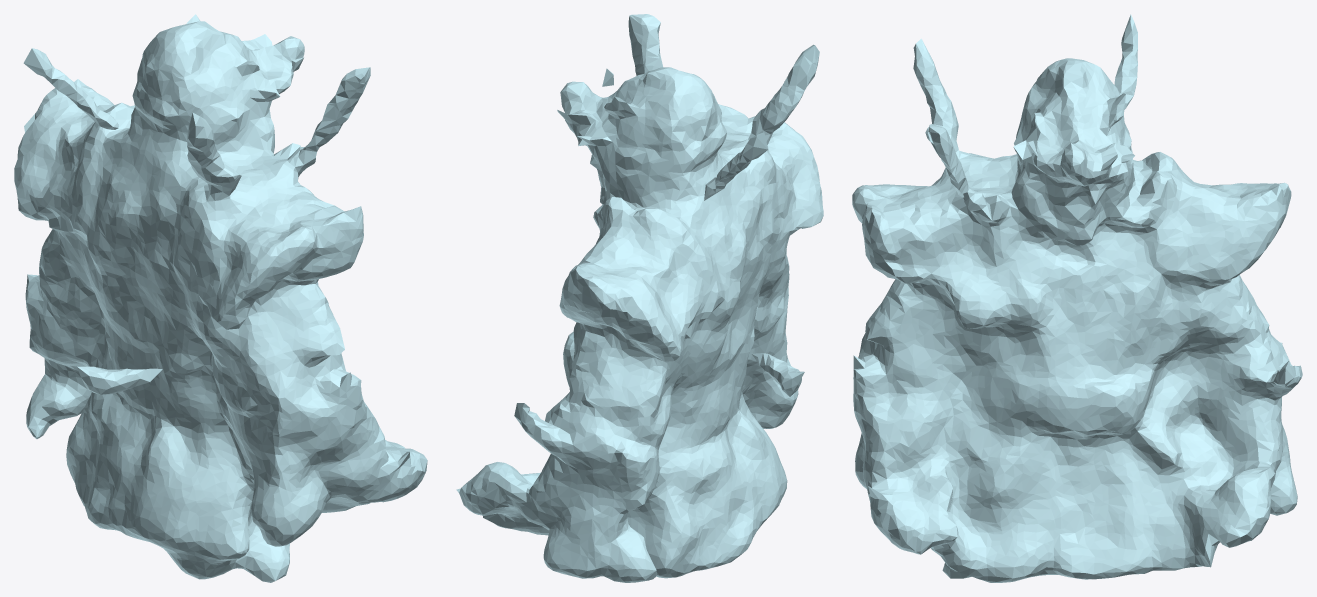
Rendered from samurai-normal.glb.
3 views of the same model, side by side, from view 1: azimuth 30°, elevation 25°; view 2: azimuth 150°, elevation 25°; view 3: azimuth 270°, elevation 25° (orthographic). The views are drawn at different scales.
Parts seen in each view (by area): view 1: extracted_mesh; view 2: extracted_mesh; view 3: extracted_mesh.
Boxes of the visible parts, x1,y1,x2,y2 form: extracted_mesh: (14, 14, 427, 582); extracted_mesh: (456, 14, 823, 582); extracted_mesh: (852, 14, 1302, 582).
Bounding box in the file's own units: 0.6886 × 1.19 × 0.9648.
Materials: 1 (1 with a texture image).
